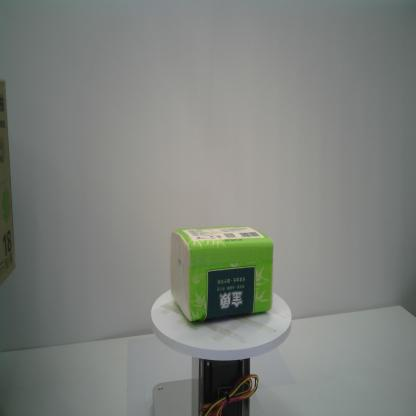Tissue: (168, 221, 276, 326)
